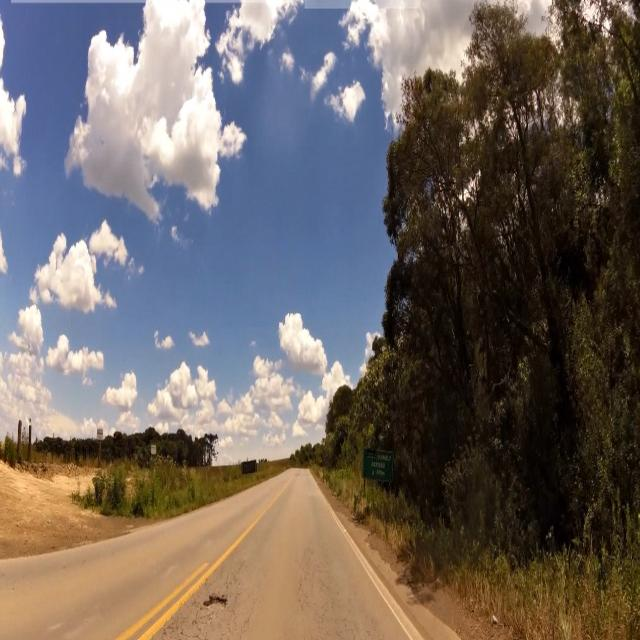I-4: (363, 446, 393, 482)
